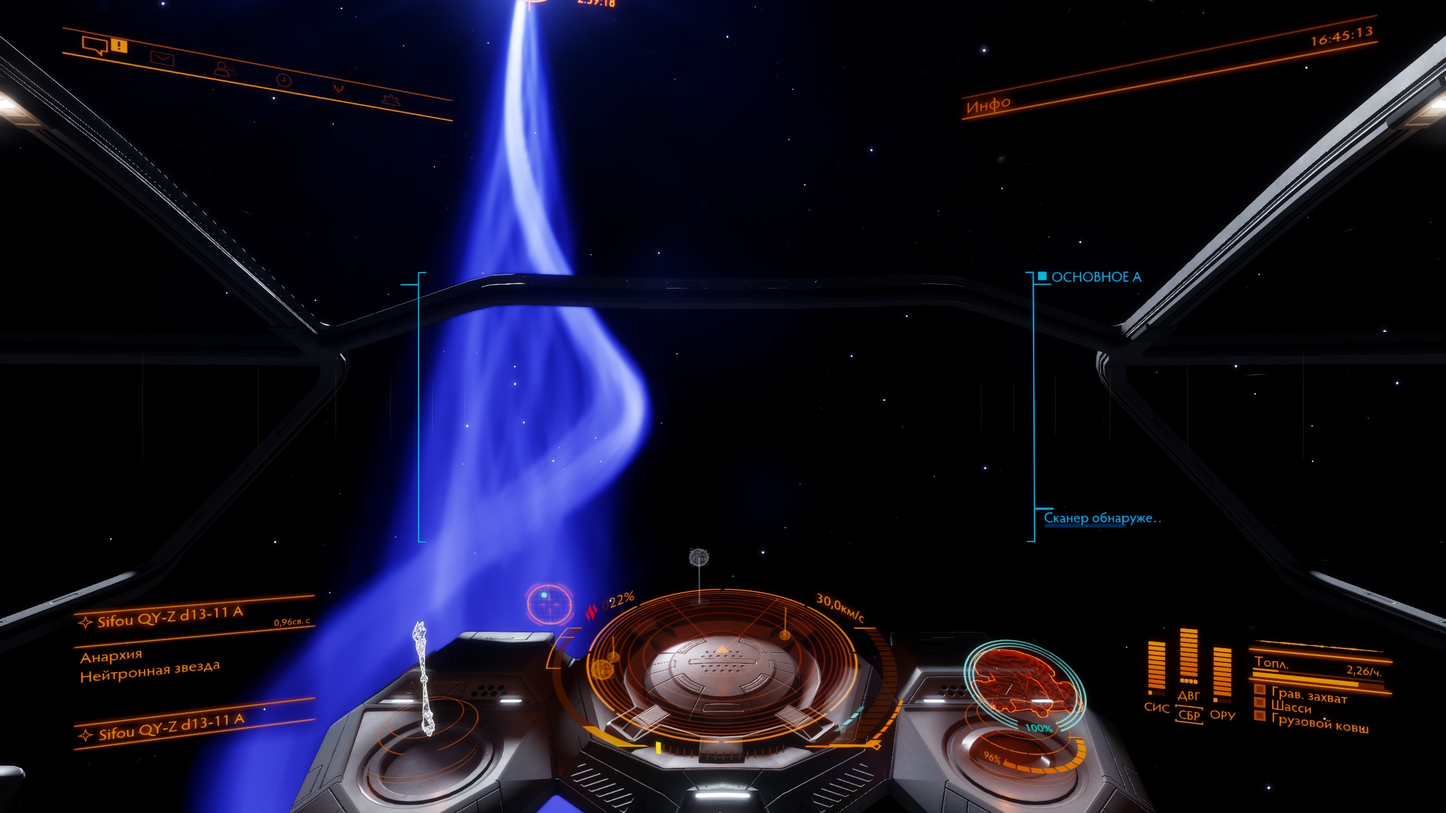jetcone: (220, 272, 649, 813), (463, 0, 573, 281)
